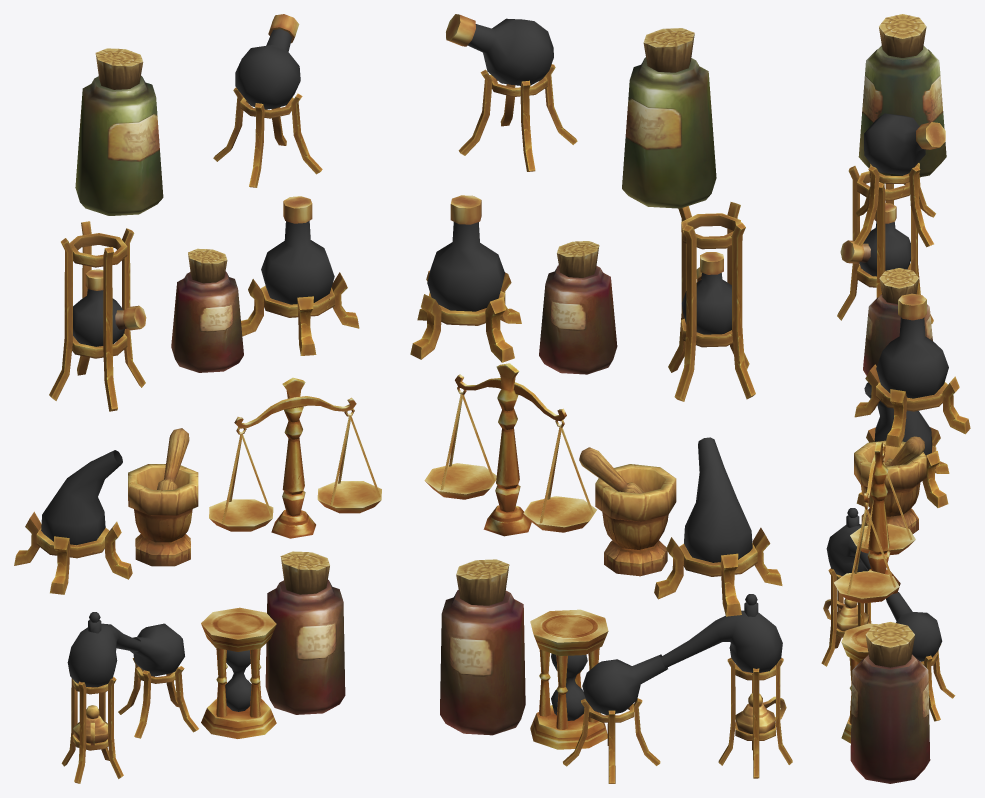
Rendered from Cupboard_Preset_04.FBX.
The picture shows the model from 3 angles, left to right: view 1: azimuth 30°, elevation 25°; view 2: azimuth 150°, elevation 25°; view 3: azimuth 270°, elevation 25°; orthographic projection. The views are drawn at different scales.
Visible parts, largest first — view 1: Cupboard_Preset_04; view 2: Cupboard_Preset_04; view 3: Cupboard_Preset_04.
Part boxes in pixels (box(x1,y1,x2,y2)): Cupboard_Preset_04: box(14, 14, 381, 783); Cupboard_Preset_04: box(410, 14, 792, 783); Cupboard_Preset_04: box(821, 14, 970, 783).
Size of the model in its own units: 111 by 45.33 by 221.
